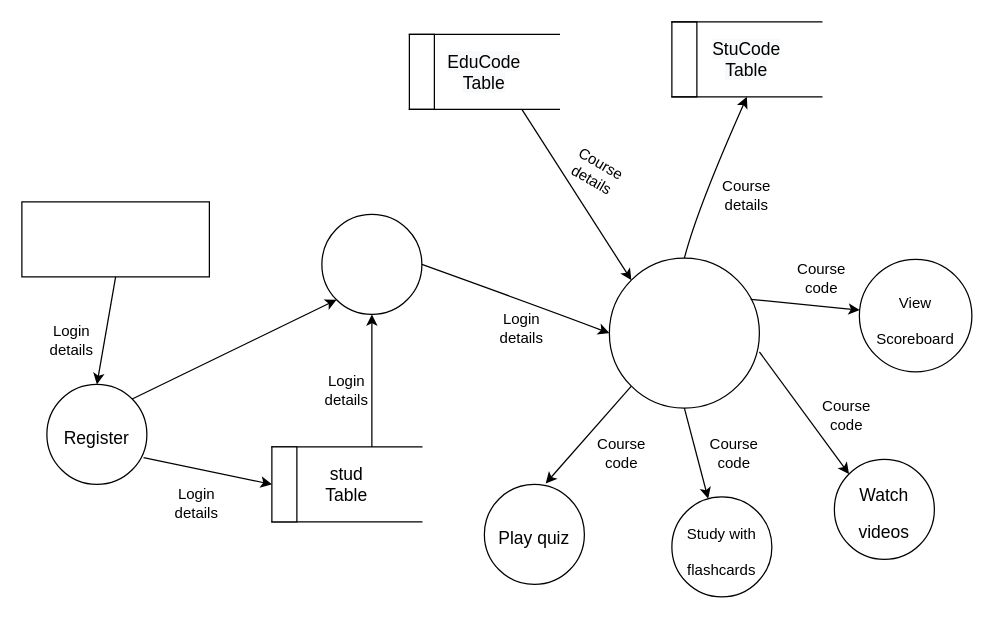
This 994x619 diagram has some shape labels left out. Here are the shapes that lost their labels. From the top down, the box of each, then its label:
(21, 201, 209, 277): Student
(321, 213, 422, 314): Login
(608, 257, 759, 408): Enroll/Select course(s)
